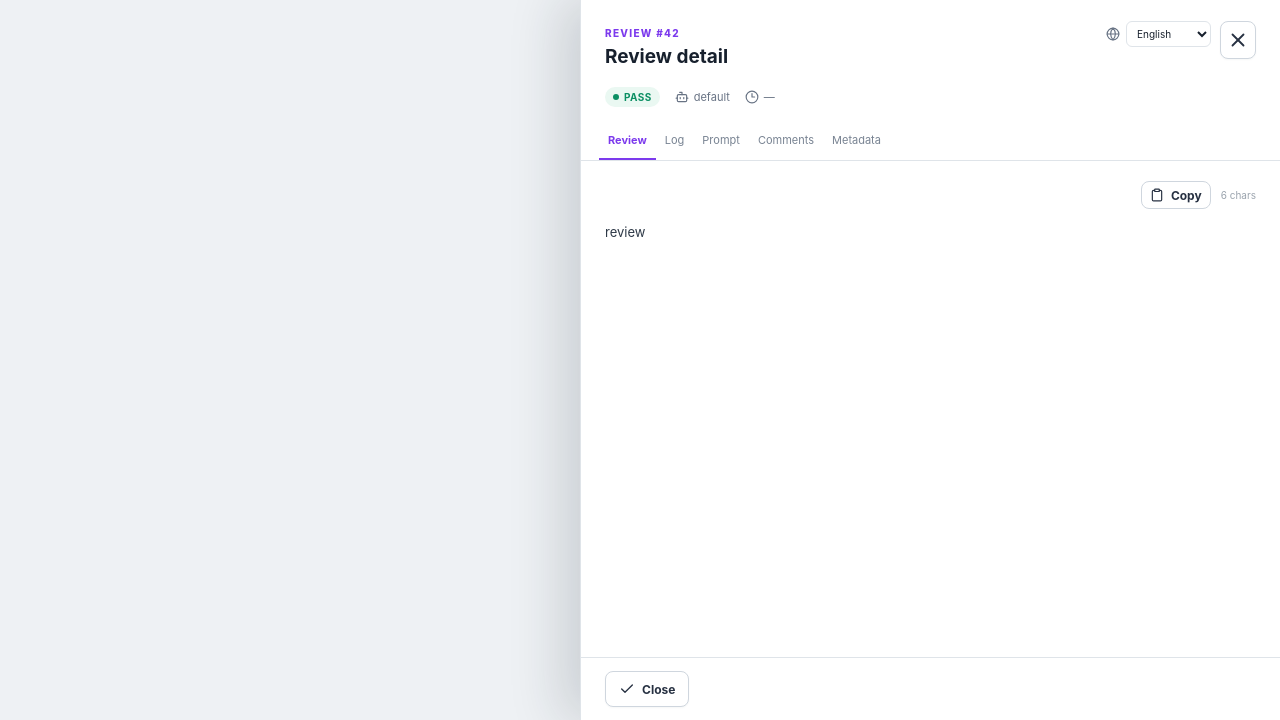
Test: ReviewDetail lazy Prompt/Log ownership › retries one failed Prompt request exactly once
The width and height of the screenshot is (1280, 720).
What coordinates should you click on to do the following:
click the button "Prompt"
I would click on:
 (721, 141)
Its box is top-left (693, 122), bottom-right (749, 160).
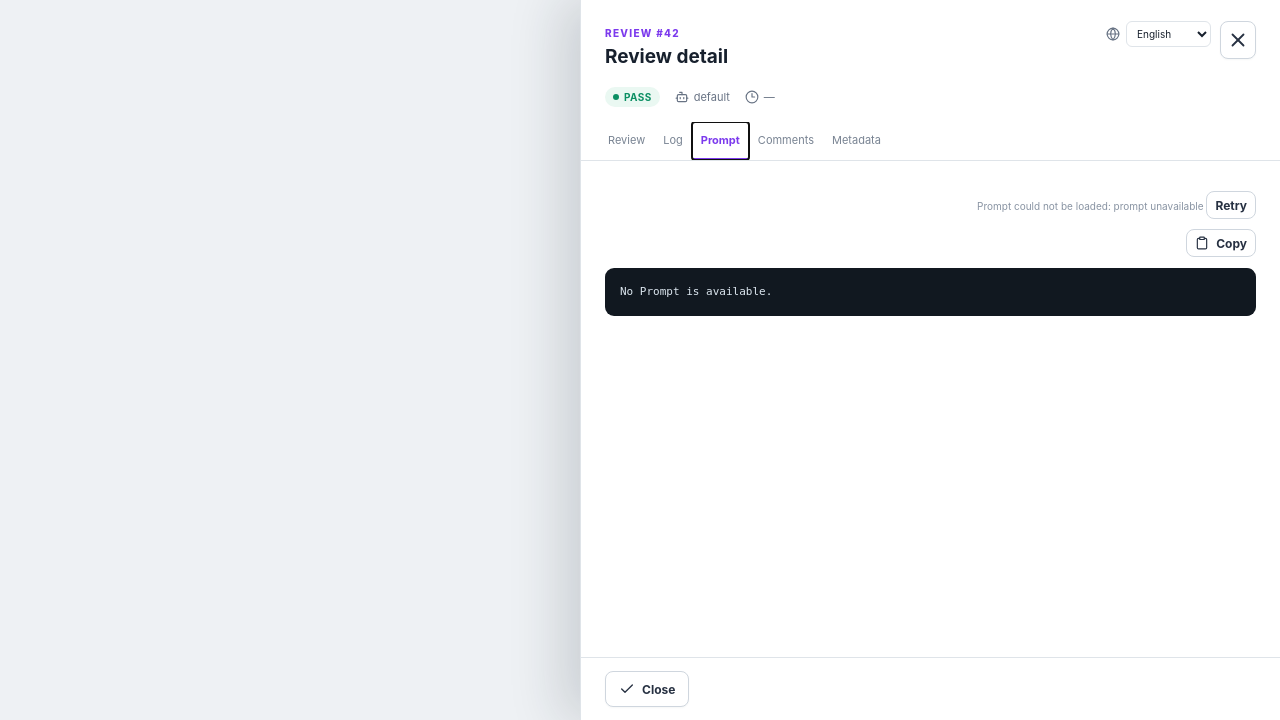
Expected: the message shows "prompt unavailable", top-left (977, 200), bottom-right (1204, 212)
What coordinates should you click on to do the following:
click the button "Retry"
I would click on:
 (1231, 205)
Its box is top-left (1206, 191), bottom-right (1256, 219).
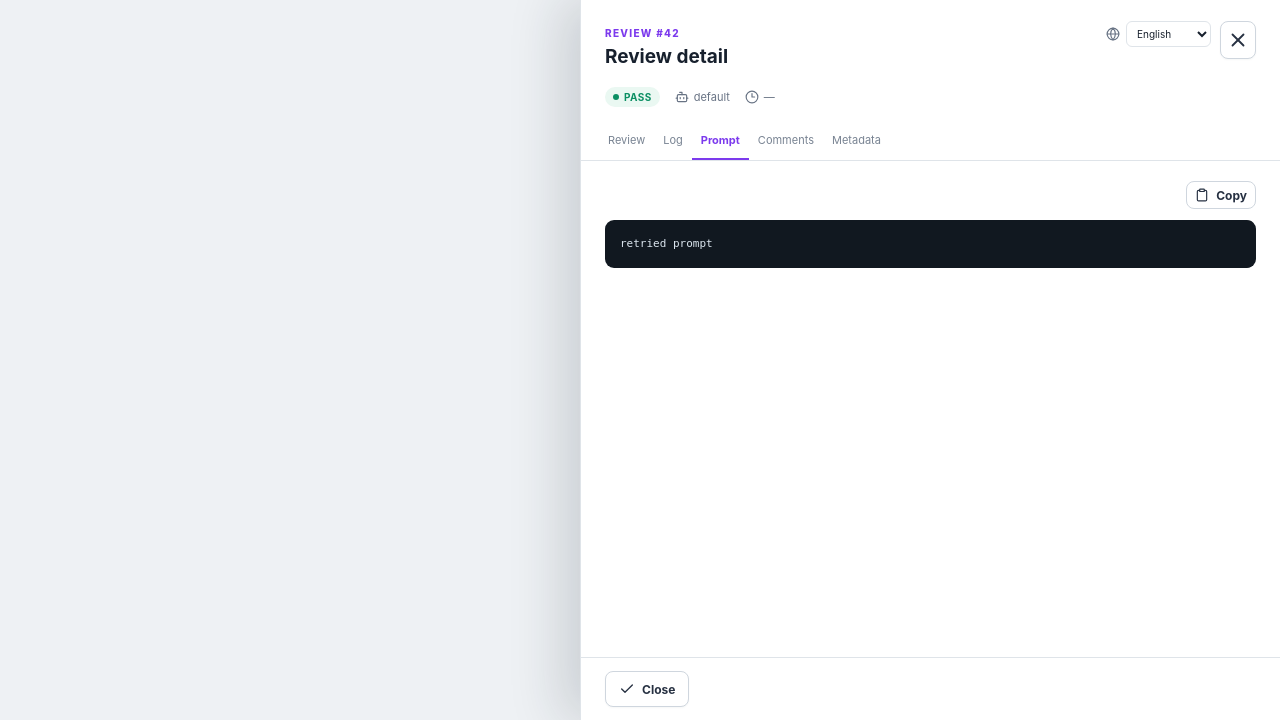
Expected: the text "retried prompt" is shown, top-left (605, 220), bottom-right (1256, 268)
